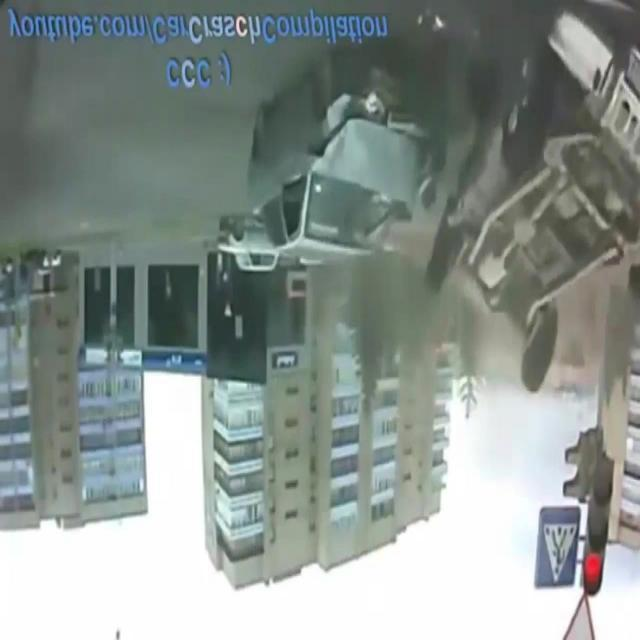severe: (243, 0, 639, 400)
